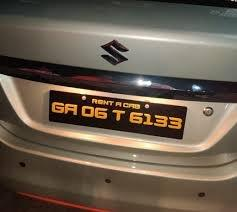Liscence Plate: (50, 89, 185, 140)
